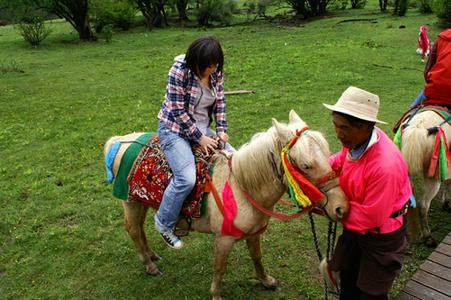person: (153, 37, 238, 250)
